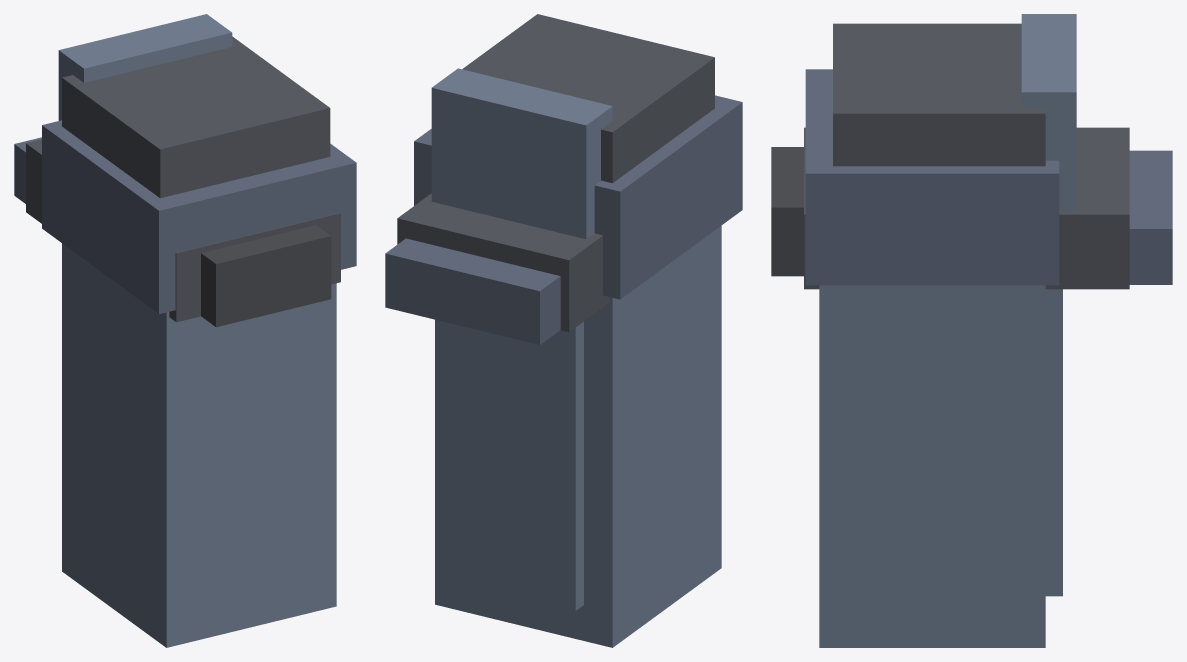
Rendered from tankmech_leg_left.glb.
3 views of the same model, side by side, from view 1: azimuth 30°, elevation 25°; view 2: azimuth 150°, elevation 25°; view 3: azimuth 270°, elevation 25° (orthographic). The views are drawn at different scales.
Visible parts, largest first — view 1: legL_thigh, legL_knee, legL_hip_cap, legL_foot_heel, legL_knee_plate, legL_foot, legL_foot_toe; view 2: legL_thigh, legL_shin_guard, legL_knee_plate, legL_knee, legL_hip_cap, legL_foot_toe, legL_foot; view 3: legL_thigh, legL_hip_cap, legL_knee, legL_foot, legL_knee_plate, legL_foot_toe, legL_shin_guard, legL_foot_heel.
Boxes of the visible parts, x1,y1,x2,y2 form: legL_thigh: (62,243,336,647); legL_knee: (62,36,330,198); legL_hip_cap: (42,120,356,314); legL_foot_heel: (201,225,331,327); legL_knee_plate: (58,14,232,120); legL_foot: (26,139,340,322); legL_foot_toe: (14,137,41,203); legL_thigh: (435,225,721,647); legL_shin_guard: (455,321,583,610); legL_knee_plate: (431,68,612,239); legL_knee: (462,14,714,183); legL_hip_cap: (414,95,742,299); legL_foot_toe: (385,238,560,344); legL_foot: (397,193,609,331); legL_thigh: (819,285,1045,647); legL_hip_cap: (805,69,1059,285); legL_knee: (833,23,1045,166); legL_foot: (804,127,1129,289); legL_knee_plate: (1021,14,1076,210); legL_foot_toe: (1129,150,1172,284); legL_shin_guard: (1045,289,1062,596); legL_foot_heel: (771,147,803,276).
Size of the model in its own units: 0.72 by 1.77 by 1.17.
